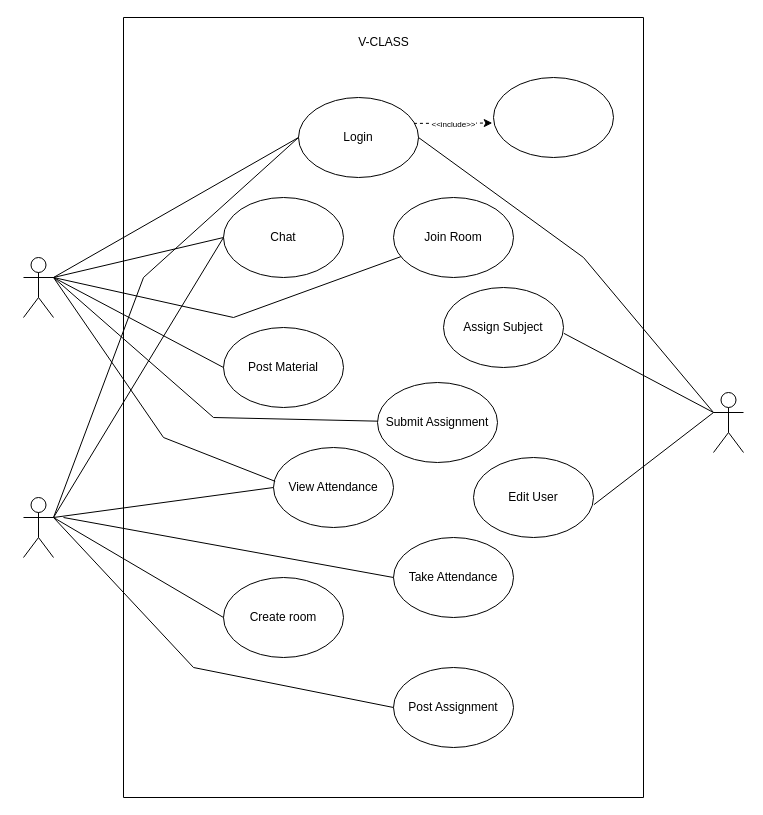
This 763x815 diagram has some shape labels left out. The shapes that lost their labels are listed below. From the top down, each one's centre as x and y in pixels, then its label:
At (x=553, y=117): "Verify".
At (x=38, y=287): "Student".
At (x=728, y=422): "Admin".
At (x=38, y=527): "Teacher".
